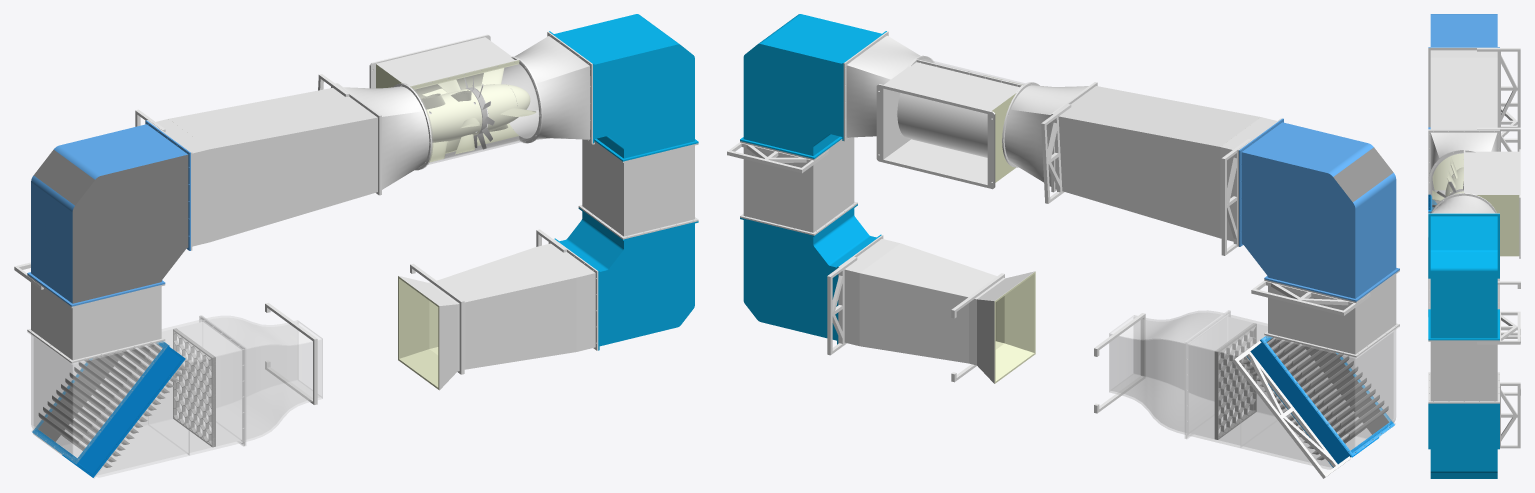
Rendered from fengdong.glb.
3 views of the same model, side by side, from view 1: azimuth 30°, elevation 25°; view 2: azimuth 150°, elevation 25°; view 3: azimuth 270°, elevation 25° (orthographic). The views are drawn at different scales.
Visible parts, largest first — view 1: Mesh (×25); view 2: Mesh (×27); view 3: Mesh (×20).
Part boxes in pixels (x1=…): Mesh (×25): x1=27, y1=14, x2=698, y2=478; Mesh (×27): x1=727, y1=14, x2=1399, y2=478; Mesh (×20): x1=1428, y1=14, x2=1520, y2=478.
Bounding box in the file's own units: 1.83 × 0.8559 × 0.2897.
